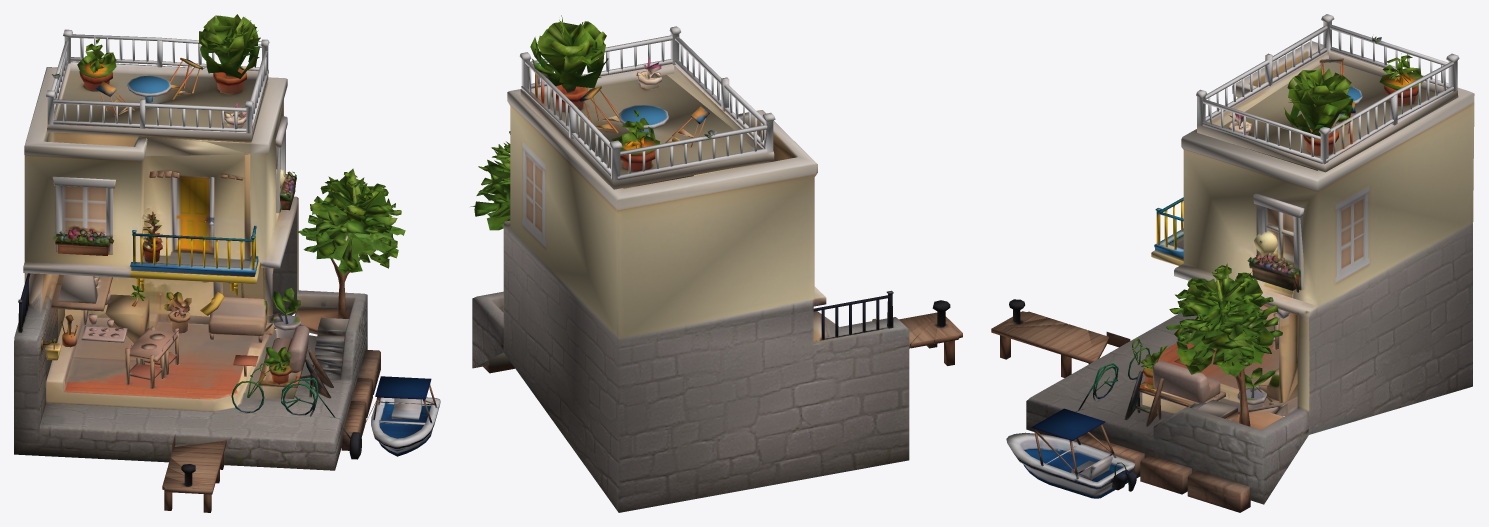
File: tier2.glb
3 renders of one model, left to right at view 1: azimuth 30°, elevation 25°; view 2: azimuth 150°, elevation 25°; view 3: azimuth 270°, elevation 25°, orthographic. The views are drawn at different scales.
Parts seen in each view (by area): view 1: tripo_node_ca0dba55-5e97-41ce-a69d-699cb68396d3; view 2: tripo_node_ca0dba55-5e97-41ce-a69d-699cb68396d3; view 3: tripo_node_ca0dba55-5e97-41ce-a69d-699cb68396d3.
Boxes of the visible parts, x1,y1,x2,y2 form: tripo_node_ca0dba55-5e97-41ce-a69d-699cb68396d3: (14,14,440,512); tripo_node_ca0dba55-5e97-41ce-a69d-699cb68396d3: (470,15,962,512); tripo_node_ca0dba55-5e97-41ce-a69d-699cb68396d3: (991,14,1474,512).
Size of the model in its own units: 1.05 by 0.9434 by 1.08.
Materials: 1 (1 with a texture image).
